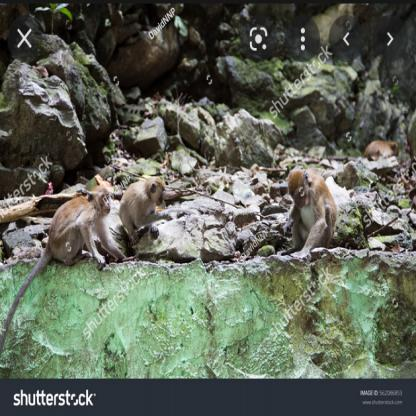monkey: (42, 182, 119, 270), (278, 167, 339, 261), (114, 171, 172, 242)
